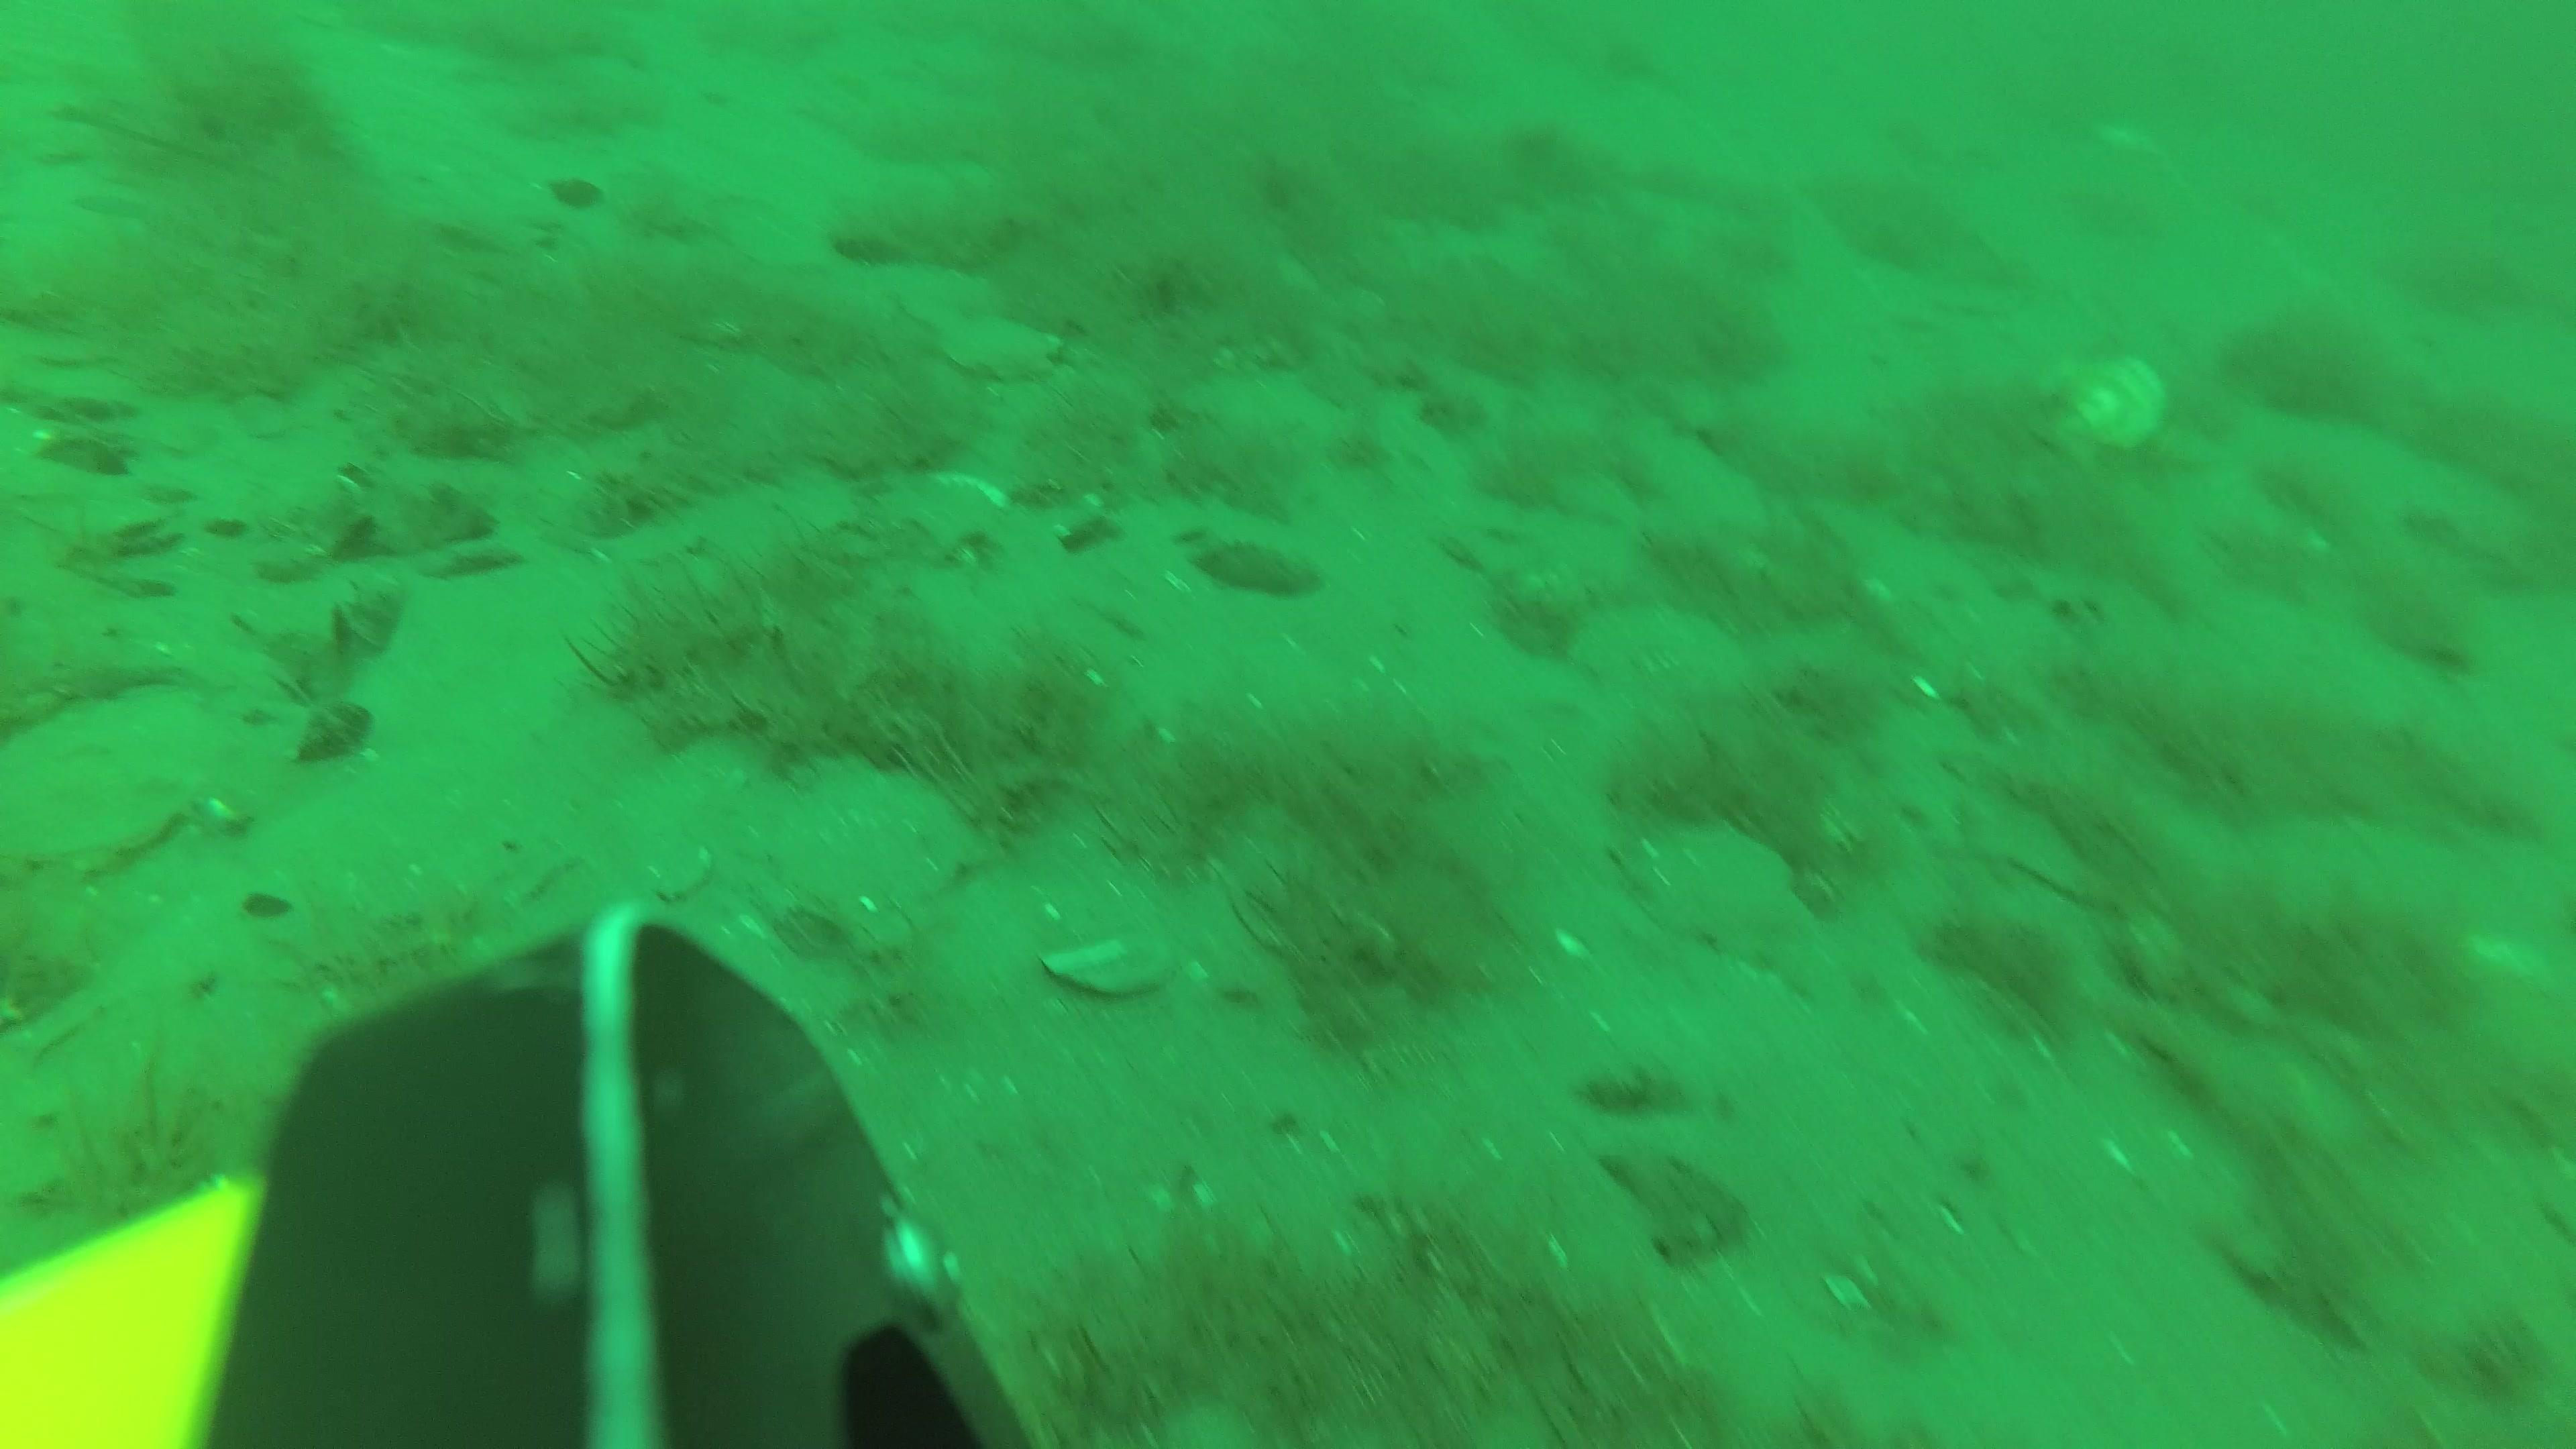scallop: (778, 773, 996, 906), (1631, 832, 1821, 968), (2029, 352, 2167, 456), (948, 310, 1063, 377), (2105, 126, 2160, 157)
